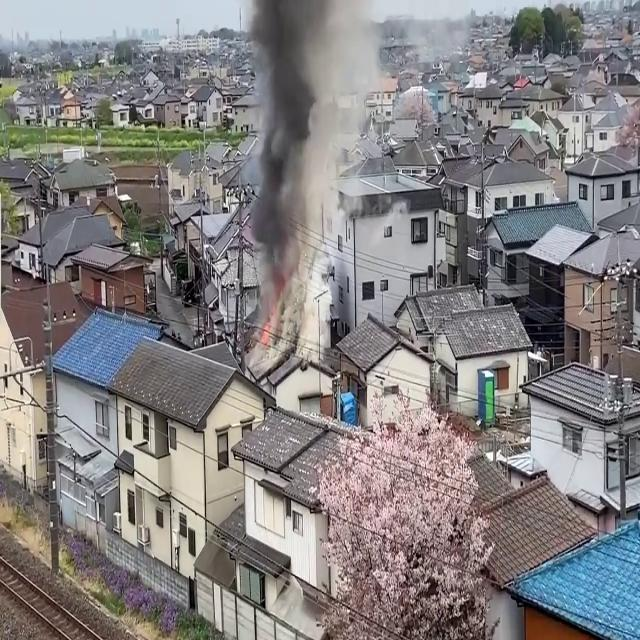Smoke: (240, 0, 374, 326)
